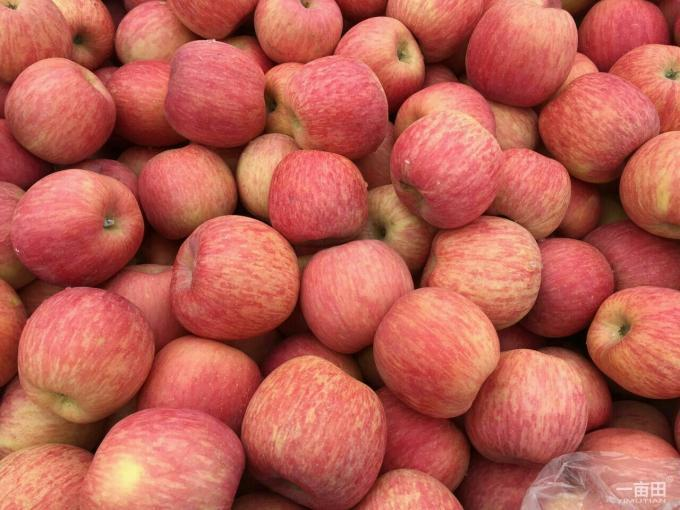apple: (240, 353, 380, 504), (17, 285, 157, 424), (371, 286, 503, 419), (79, 403, 245, 507), (169, 211, 301, 341), (10, 167, 147, 290), (462, 345, 589, 470), (388, 111, 505, 230), (421, 210, 540, 323), (539, 70, 658, 183), (6, 55, 117, 164), (468, 1, 578, 109), (161, 38, 271, 146), (283, 53, 391, 160), (585, 285, 679, 401), (267, 148, 368, 249), (137, 144, 237, 237), (618, 131, 680, 240), (576, 1, 670, 72)
